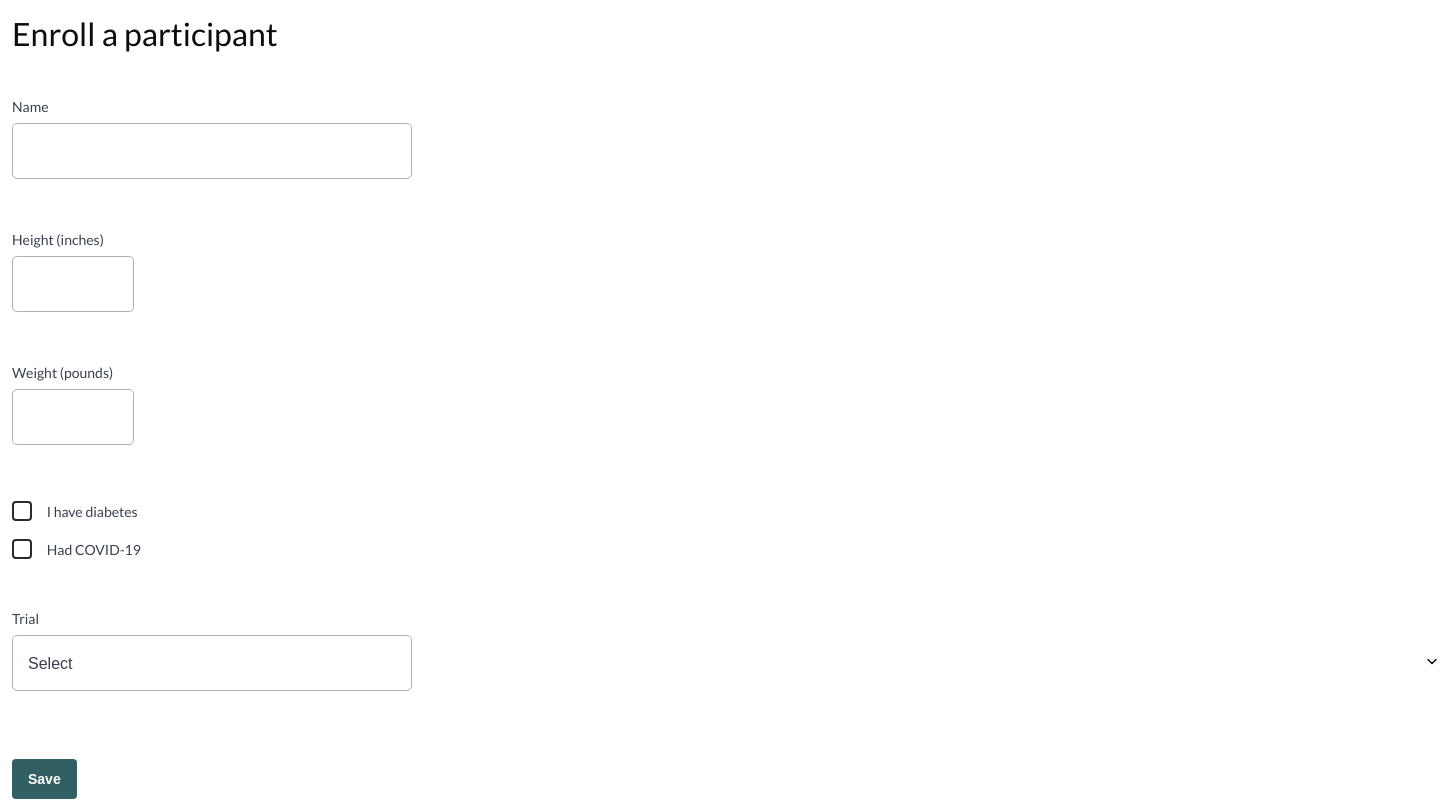
Test: EnrollParticipantPage › shows validation errors when form is submitted empty
Click the button "Save".
click(44, 779)  # box [12,759,77,799]
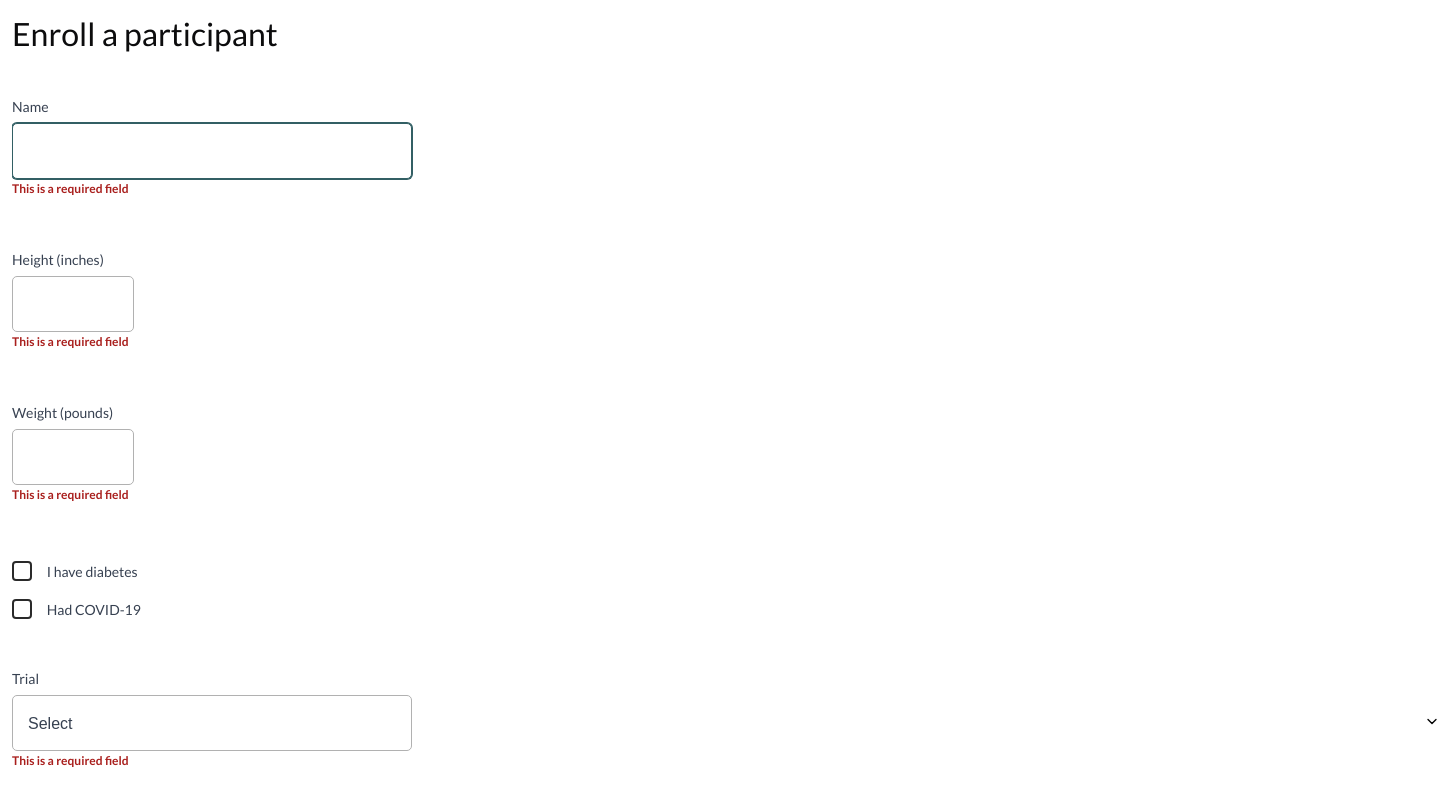
Expected: the text "This is a required field" is shown 4 times, [12,181,129,196]; [12,334,129,349]; [12,487,129,502]; [12,753,129,768]
